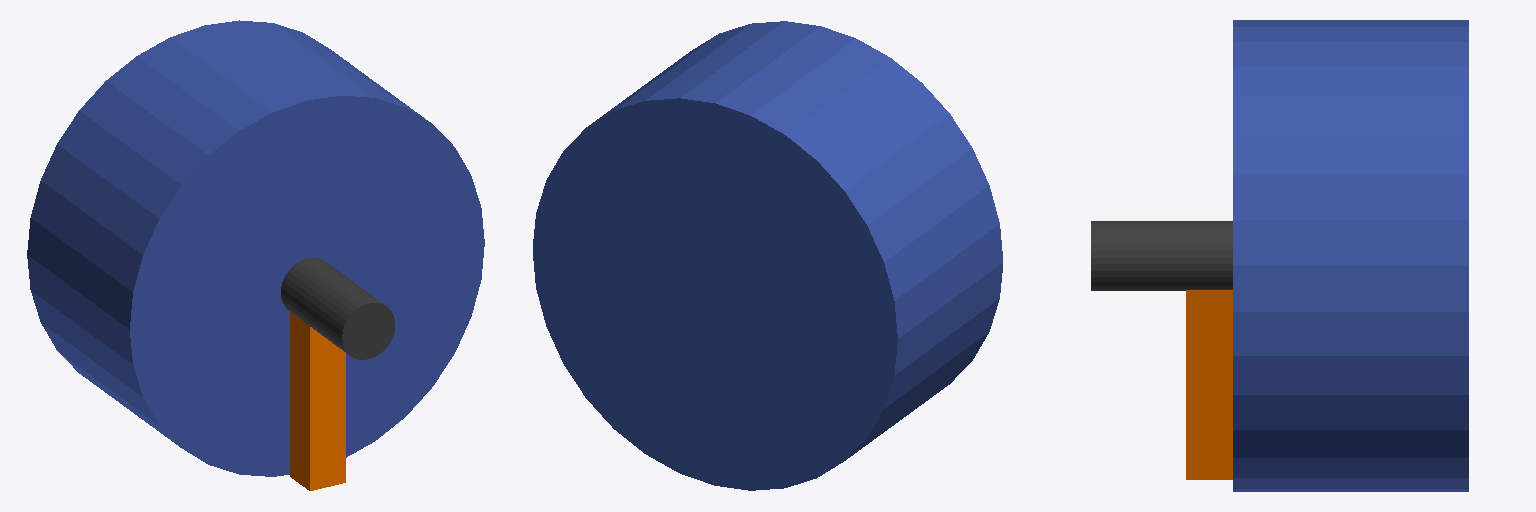
robot.urdf — pendulum:
<?xml version="1.0"?>
<robot name="pendulum">

  <link name="base_link">
    <inertial>
      <mass value="0.001"/>
      <inertia ixx="0.000001" ixy="0" ixz="0" iyy="0.000001" iyz="0" izz="0.000001"/>
    </inertial>
  </link>

  <link name="motor_body">
    <visual>
      <origin xyz="0 0 0" rpy="1.57079632679 0 0"/>
      <geometry>
        <cylinder radius="0.1" length="0.1"/>
      </geometry>
      <material name="steel_blue">
        <color rgba="0.3 0.4 0.7 1.0"/>
      </material>
    </visual>
    <collision>
      <origin xyz="0 0 0" rpy="1.57079632679 0 0"/>
      <geometry>
        <cylinder radius="0.1" length="0.1"/>
      </geometry>
    </collision>
    <inertial>
      <mass value="0.01"/>
      <inertia ixx="0.00001" ixy="0" ixz="0" iyy="0.00001" iyz="0" izz="0.00001"/>
    </inertial>
  </link>

  <joint name="motor_body_joint" type="fixed">
    <parent link="base_link"/>
    <child link="motor_body"/>
    <origin xyz="0 0.06 1.2" rpy="0 0 0"/>
  </joint>

  <link name="pendulum_link">
    <visual>
      <origin xyz="0 0 -0.05" rpy="0 0 0"/>
      <geometry>
        <box size="0.02 0.02 0.1"/>
      </geometry>
      <material name="orange">
        <color rgba="1.0 0.5 0.0 1.0"/>
      </material>
    </visual>
    <collision>
      <origin xyz="0 0 -0.05" rpy="0 0 0"/>
      <geometry>
        <box size="0.02 0.02 0.1"/>
      </geometry>
    </collision>
    <inertial>
      <origin xyz="0 0 -0.05" rpy="0 0 0"/>
      <mass value="0.1"/>
      <inertia ixx="0.00008667" ixy="0" ixz="0"
               iyy="0.00008667" iyz="0"
               izz="0.00000667"/>
    </inertial>
  </link>

  <link name="motor_shaft">
    <visual>
      <origin xyz="0 -0.03 0" rpy="1.57079632679 0 0"/>
      <geometry>
        <cylinder radius="0.015" length="0.06"/>
      </geometry>
      <material name="dark_grey">
        <color rgba="0.3 0.3 0.3 1.0"/>
      </material>
    </visual>
  </link>

  <joint name="shaft_joint" type="fixed">
    <parent link="pendulum_link"/>
    <child link="motor_shaft"/>
    <origin xyz="0 0.01 0" rpy="0 0 0"/>
  </joint>

  <joint name="pendulum_joint" type="revolute">
    <parent link="base_link"/>
    <child link="pendulum_link"/>
    <origin xyz="0 0 1.2" rpy="0 0 0"/>
    <axis xyz="0 1 0"/>
    <limit lower="0.0" upper="6.28318530718" effort="20.0" velocity="16.02"/>
    <dynamics damping="0.16" friction="1.6"/>
  </joint>

</robot>

--- Render facts (derived) ---
The picture shows the robot from 3 angles, left to right: view 1: azimuth 30°, elevation 25°; view 2: azimuth 150°, elevation 25°; view 3: azimuth 270°, elevation 25°; orthographic projection.
Robot: pendulum — 4 links, 3 joints (1 revolute, 2 fixed); root link base_link; default pose: all joints at 0.
Visible links, largest first — view 1: motor_body, pendulum_link, motor_shaft; view 2: motor_body; view 3: motor_body, motor_shaft, pendulum_link.
Boxes of the visible links, box(x1,y1,x2,y2) form: motor_body: box(27, 20, 484, 476); pendulum_link: box(290, 312, 345, 490); motor_shaft: box(281, 258, 394, 359); motor_body: box(533, 21, 1002, 490); motor_body: box(1233, 20, 1468, 491); motor_shaft: box(1091, 221, 1232, 290); pendulum_link: box(1186, 290, 1232, 479).
Bounding box of the posed robot: 0.2 × 0.16 × 0.2 m (x, y, z).
Geometry: primitives only (box / cylinder / sphere), no mesh files.
